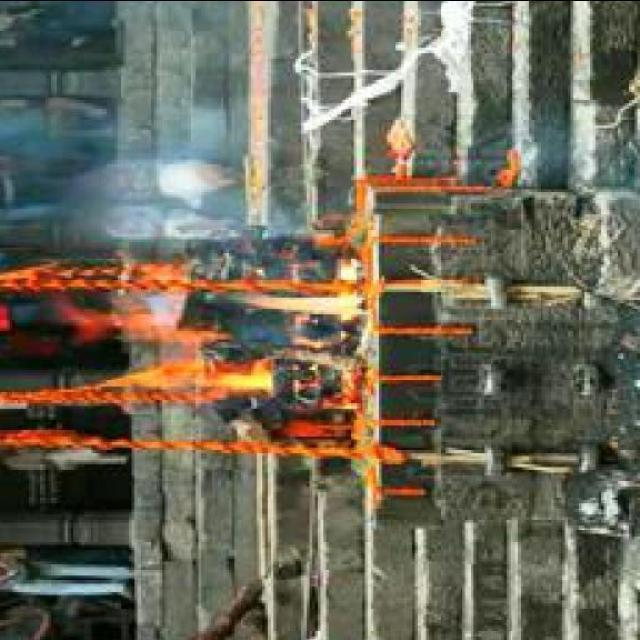Fire: (86, 275, 367, 394)
